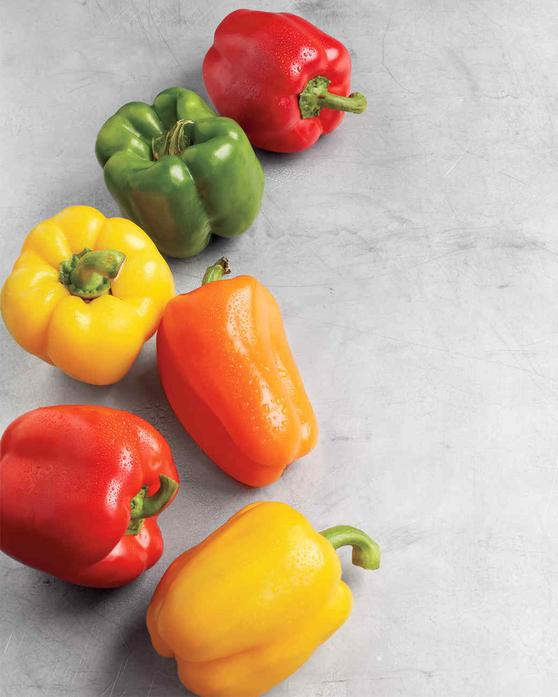pepper: (9, 397, 169, 592), (199, 9, 367, 144)
